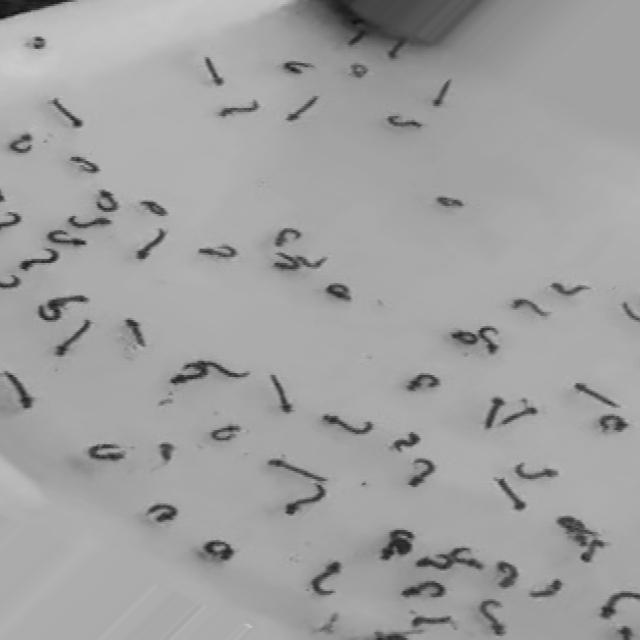larvas: (271, 456, 322, 483), (602, 588, 640, 621), (286, 486, 326, 513), (380, 522, 411, 556), (58, 321, 88, 356), (325, 414, 372, 436), (314, 561, 342, 597), (500, 477, 525, 513), (576, 384, 616, 406), (6, 372, 30, 406), (138, 231, 166, 260), (172, 355, 200, 384), (200, 361, 246, 378), (18, 252, 57, 272), (516, 461, 556, 480), (90, 436, 120, 461), (481, 601, 504, 633), (54, 100, 82, 126), (408, 459, 434, 487), (560, 513, 590, 537), (514, 297, 548, 318), (412, 609, 451, 627), (498, 556, 518, 591), (222, 100, 260, 118), (50, 230, 84, 250), (290, 96, 314, 124), (94, 186, 116, 216), (452, 546, 482, 568), (11, 127, 32, 158), (409, 370, 437, 393), (406, 584, 446, 600), (50, 291, 87, 308), (532, 576, 560, 598), (555, 282, 589, 300), (485, 390, 503, 424), (273, 376, 290, 411), (149, 501, 177, 522), (212, 421, 237, 444), (70, 214, 111, 228), (348, 18, 367, 48), (207, 537, 232, 559), (389, 112, 421, 129), (580, 540, 604, 562), (506, 406, 537, 423), (435, 76, 451, 108), (598, 412, 626, 430), (0, 213, 21, 237), (481, 325, 498, 354), (417, 557, 452, 571), (275, 250, 296, 273), (286, 57, 310, 77), (203, 244, 233, 260), (454, 328, 477, 348), (206, 54, 221, 84), (130, 316, 144, 348), (276, 228, 302, 245), (327, 282, 349, 302), (74, 154, 96, 174), (396, 433, 418, 453), (440, 190, 462, 209), (143, 199, 167, 216), (301, 256, 326, 272), (39, 300, 57, 322), (624, 301, 640, 323), (373, 629, 404, 640), (351, 61, 366, 83), (0, 274, 20, 290), (389, 36, 402, 59), (159, 441, 175, 459), (30, 34, 46, 51), (621, 627, 632, 640)
